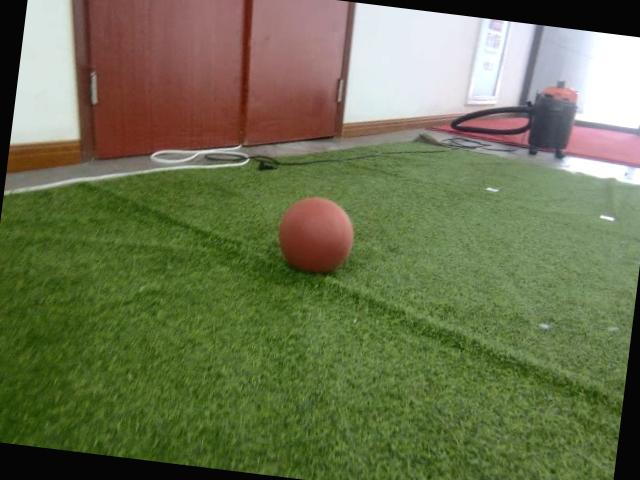red_ball: (273, 194, 358, 278)
